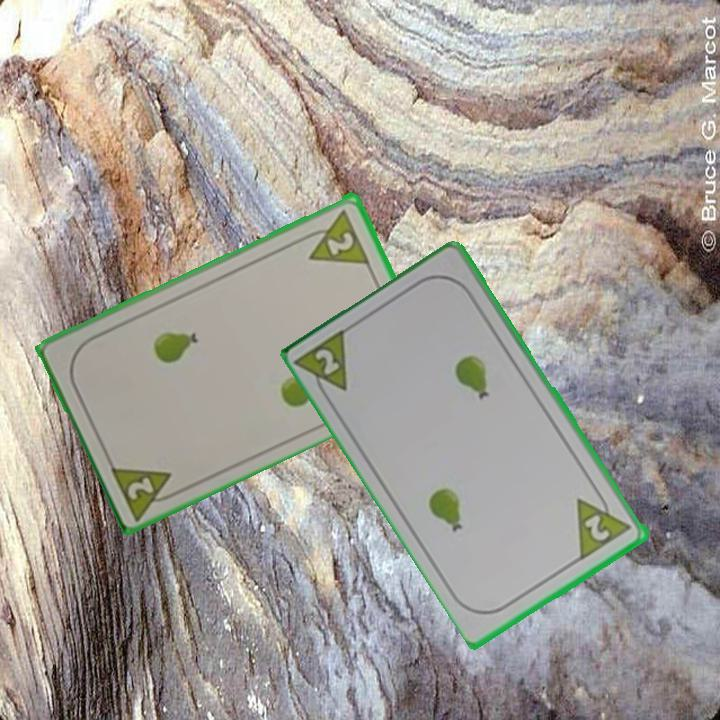2p: (573, 484, 635, 563), (106, 460, 185, 521), (297, 205, 372, 267), (311, 345, 344, 379)
